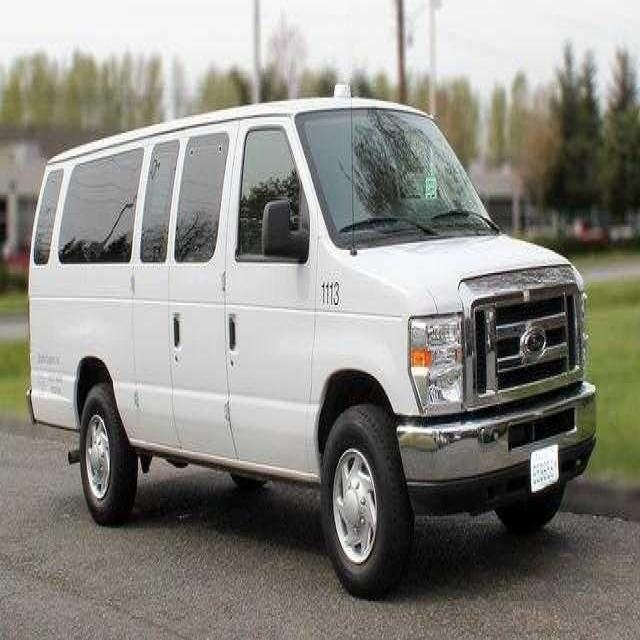Van: (32, 83, 600, 602)
